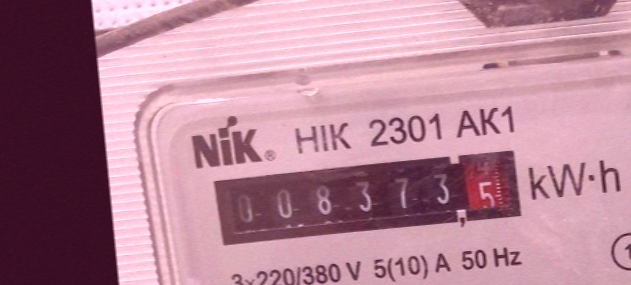0: (233, 187, 256, 225), (272, 182, 295, 220)
3: (429, 167, 454, 206), (351, 175, 375, 213)
4: (473, 155, 492, 177)
5: (476, 176, 497, 207)
7: (391, 170, 412, 211)
8: (311, 178, 335, 216)
screen: (207, 140, 531, 257)
